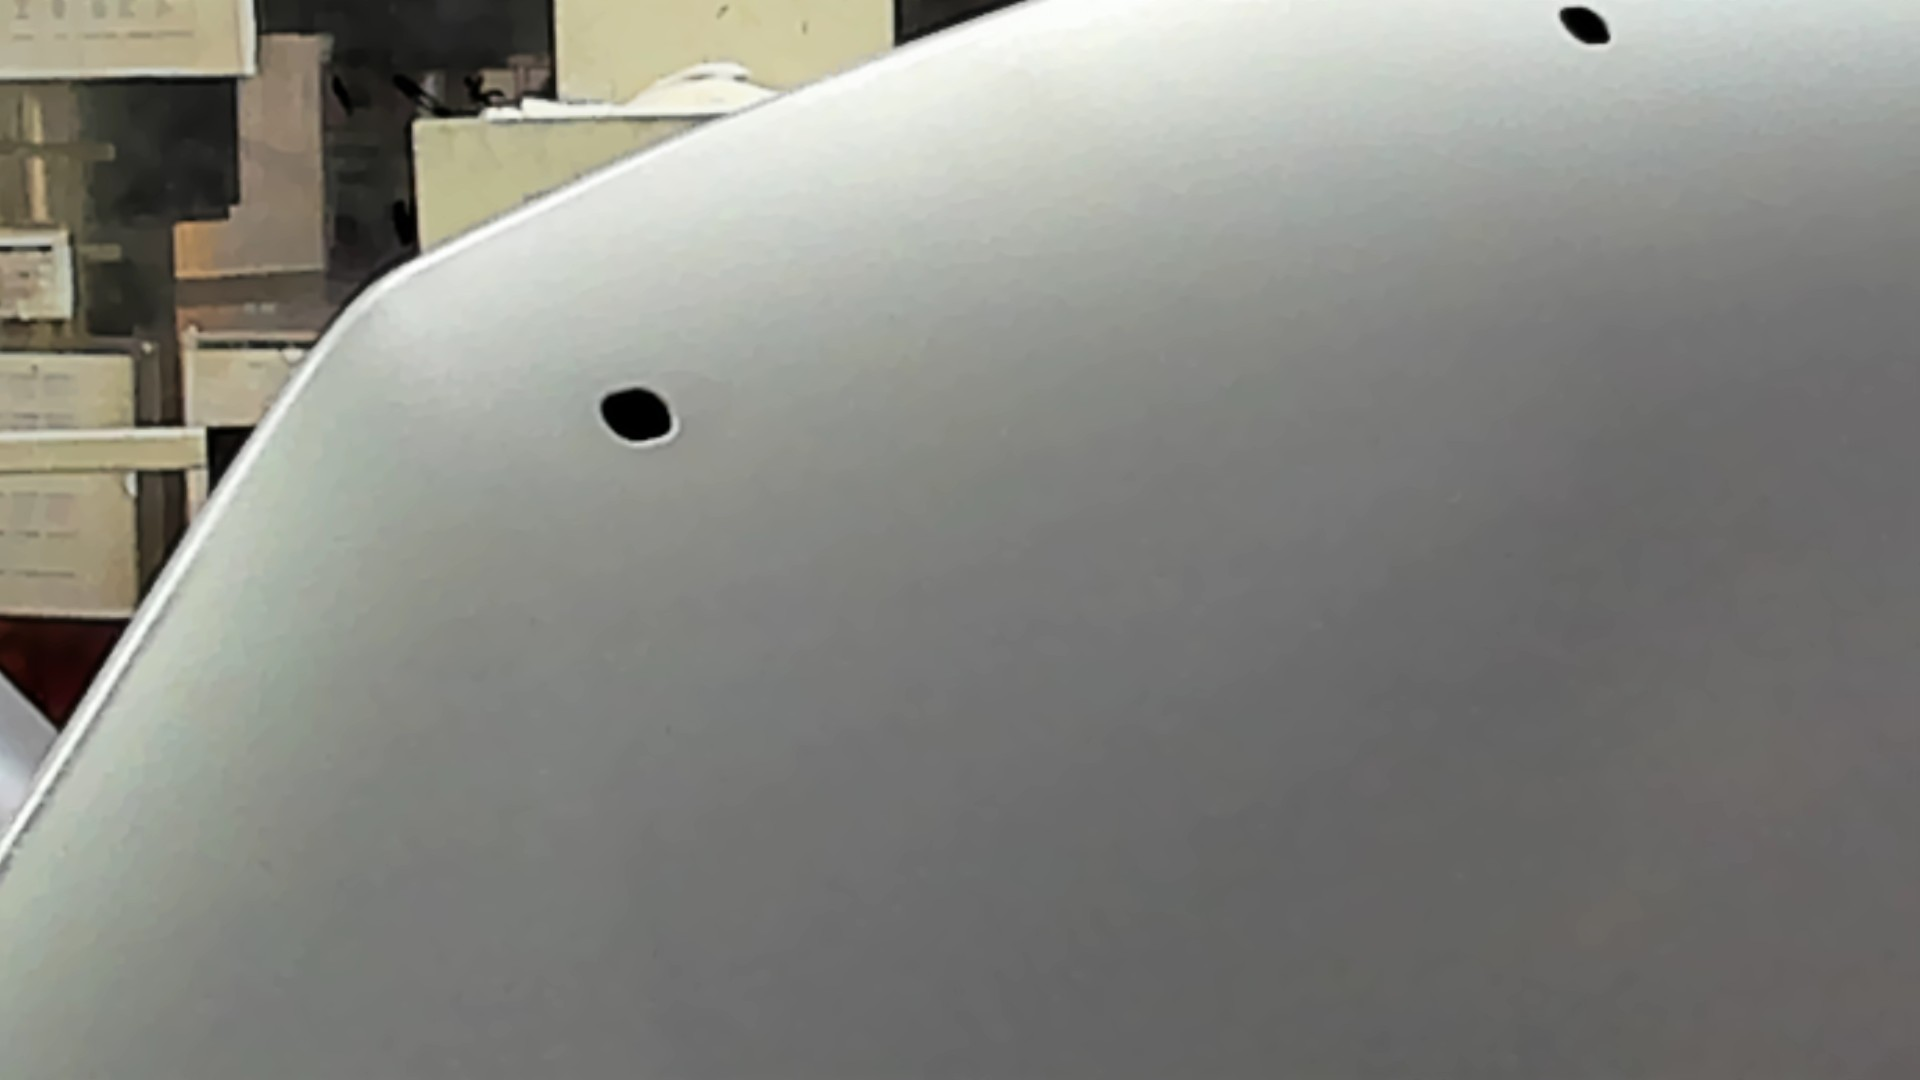amorfo: (592, 382, 682, 454), (1555, 1, 1618, 53)
